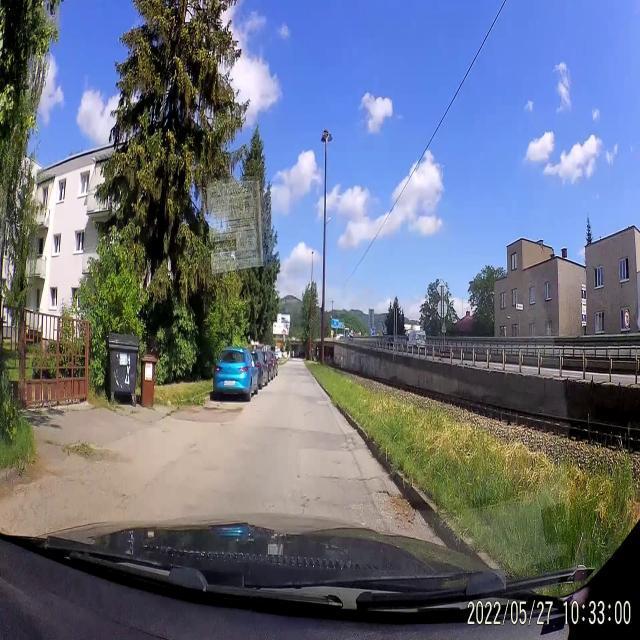Pothole: (372, 485, 414, 523)
